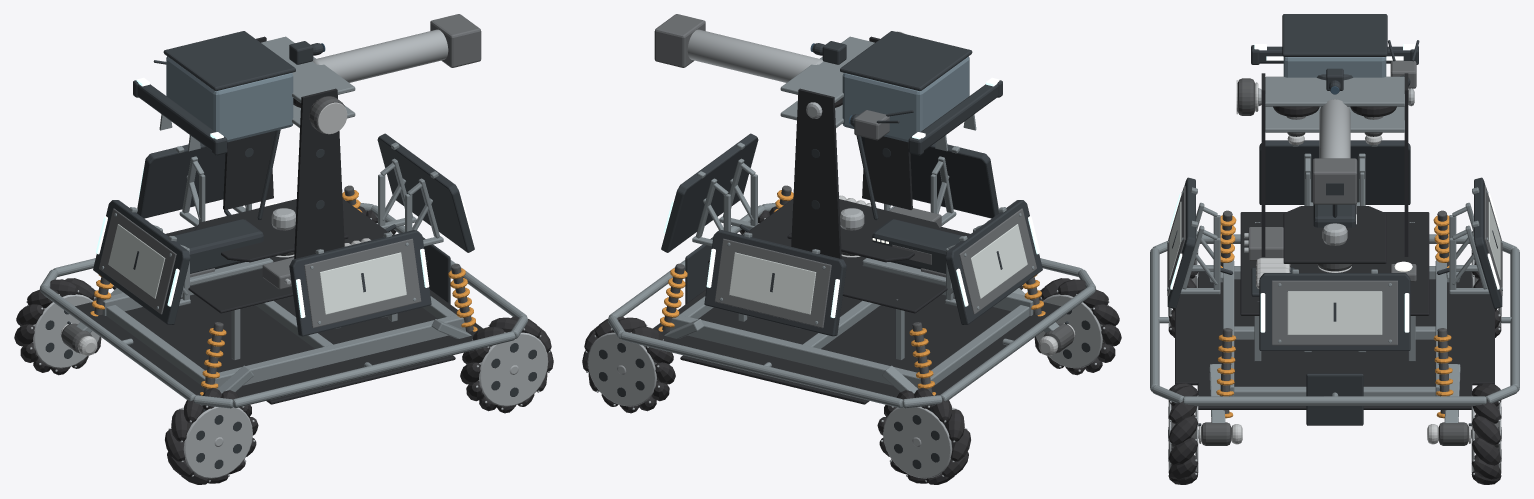
The model's file is robot-1-spec2026v4.glb.
3 views of the same model, side by side, from view 1: azimuth 30°, elevation 25°; view 2: azimuth 150°, elevation 25°; view 3: azimuth 270°, elevation 25° (orthographic).
Visible parts, largest first — view 1: Chassis_CarbonPlate, Chassis_RobotMatteAluminum, Turret_CarbonPlate, MagazineBox, MagazineLid, ArmorModuleBody.001, ArmorModuleBody, Chassis_RobotMatteGraphite, GunPitch_MachinedAlloy, ArmorHitFace.003, Wheel_0_MachinedAlloy, ArmorSticker.003 (+19 smaller); view 2: Chassis_CarbonPlate, Chassis_RobotMatteAluminum, Turret_CarbonPlate, MagazineBox, MagazineLid, ArmorModuleBody.003, ArmorModuleBody, GunPitch_MachinedAlloy, ArmorHitFace.001, Wheel_1_MachinedAlloy, ArmorSticker.001, Chassis_RobotMatteGraphite (+20 smaller); view 3: Chassis_CarbonPlate, Chassis_RobotMatteAluminum, Turret_CarbonPlate, ArmorModuleBody.002, GunPitch_RobotMatteAluminum, MagazineLid, ArmorHitFace, ArmorSticker, Chassis_RobotMatteGraphite, ArmorModuleBody, Chassis_MotorHousing, Wheel_3_PolyurethaneRoller (+25 smaller).
Part boxes in pixels (x1,y1,x2,y2): Chassis_CarbonPlate: [75, 199, 482, 404]; Chassis_RobotMatteAluminum: [40, 203, 527, 408]; Turret_CarbonPlate: [195, 36, 348, 262]; MagazineBox: [166, 56, 293, 142]; MagazineLid: [163, 31, 295, 91]; ArmorModuleBody.001: [137, 130, 275, 218]; ArmorModuleBody: [377, 133, 474, 252]; Chassis_RobotMatteGraphite: [67, 219, 450, 324]; GunPitch_MachinedAlloy: [313, 29, 448, 82]; ArmorHitFace.003: [304, 238, 421, 328]; Wheel_0_MachinedAlloy: [168, 405, 255, 482]; ArmorSticker.003: [319, 252, 406, 314]; Chassis_CarbonPlate: [653, 199, 1060, 404]; Chassis_RobotMatteAluminum: [608, 203, 1095, 408]; Turret_CarbonPlate: [787, 36, 940, 262]; MagazineBox: [842, 56, 969, 142]; MagazineLid: [840, 31, 972, 91]; ArmorModuleBody.003: [861, 136, 998, 218]; ArmorModuleBody: [661, 133, 758, 252]; GunPitch_MachinedAlloy: [687, 29, 822, 82]; ArmorHitFace.001: [714, 238, 831, 328]; Wheel_1_MachinedAlloy: [880, 405, 967, 482]; ArmorSticker.001: [729, 252, 816, 314]; Chassis_RobotMatteGraphite: [685, 219, 1068, 324]; Chassis_CarbonPlate: [1175, 212, 1494, 409]; Chassis_RobotMatteAluminum: [1150, 202, 1519, 422]; Turret_CarbonPlate: [1261, 73, 1408, 263]; ArmorModuleBody.002: [1259, 140, 1410, 204]; GunPitch_RobotMatteAluminum: [1265, 76, 1404, 132]; MagazineLid: [1282, 14, 1387, 56]; ArmorHitFace: [1272, 280, 1397, 345]; ArmorSticker: [1287, 291, 1382, 334]; Chassis_RobotMatteGraphite: [1198, 204, 1471, 426]; ArmorModuleBody: [1259, 273, 1410, 350]; Chassis_MotorHousing: [1201, 210, 1468, 445]; Wheel_3_PolyurethaneRoller: [1471, 383, 1501, 484].
Size of the model in its own units: 0.7782 by 0.672 by 0.6465.
